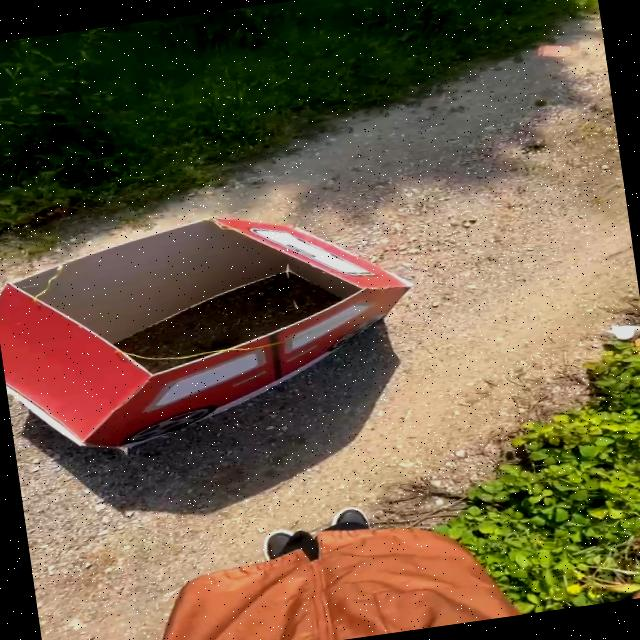red_car: (0, 179, 447, 483)
